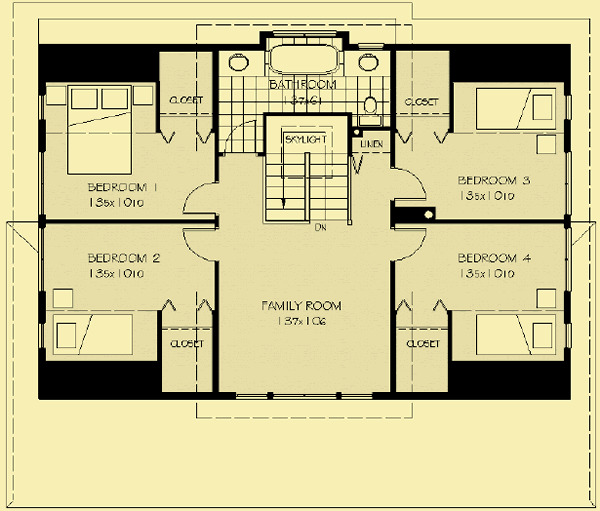bathroom has small and large sink and tub space: (222, 30, 392, 114)
bedroom has a single bed, closet and bedside stand: (390, 217, 571, 401), (394, 46, 567, 222)
these are stairs to the other floors: (262, 111, 354, 232)
this bedroom has a double bed, bedside stands and closet: (37, 41, 221, 225)
this bedroom has a single bed, closet and bedside stand: (37, 218, 222, 399)
